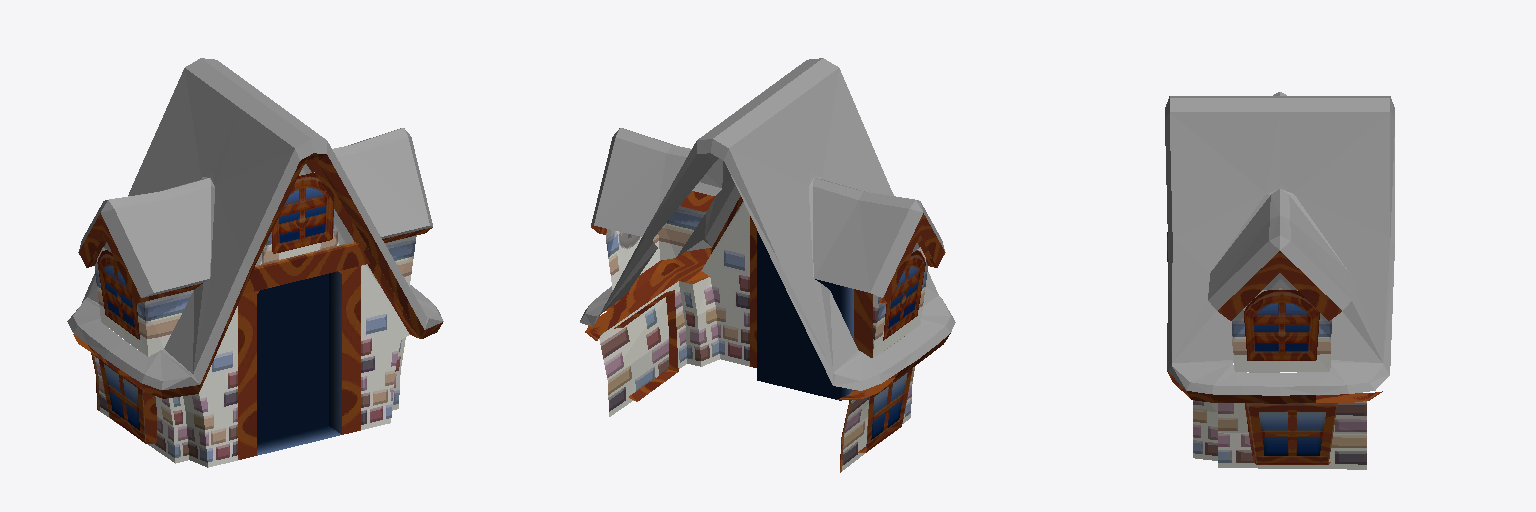
The picture shows the model from 3 angles: view 1: azimuth 30°, elevation 25°; view 2: azimuth 150°, elevation 25°; view 3: azimuth 270°, elevation 25°; orthographic projection.
Parts seen in each view (by area): view 1: vsn_mesh_0__mesh_0_.007, vsn_mesh_1__mesh_1_.007; view 2: vsn_mesh_1__mesh_1_.007, vsn_mesh_0__mesh_0_.007; view 3: vsn_mesh_1__mesh_1_.007, vsn_mesh_0__mesh_0_.007.
Boxes of the visible parts, x1=… form: vsn_mesh_0__mesh_0_.007: x1=73, y1=153, x2=442, y2=467; vsn_mesh_1__mesh_1_.007: x1=67, y1=58, x2=443, y2=389; vsn_mesh_1__mesh_1_.007: x1=580, y1=58, x2=955, y2=390; vsn_mesh_0__mesh_0_.007: x1=585, y1=191, x2=950, y2=472; vsn_mesh_1__mesh_1_.007: x1=1165, y1=92, x2=1394, y2=395; vsn_mesh_0__mesh_0_.007: x1=1167, y1=232, x2=1382, y2=469.
Size of the model in its own units: 1.15 by 1.12 by 0.74.
2 materials, 1 textured.